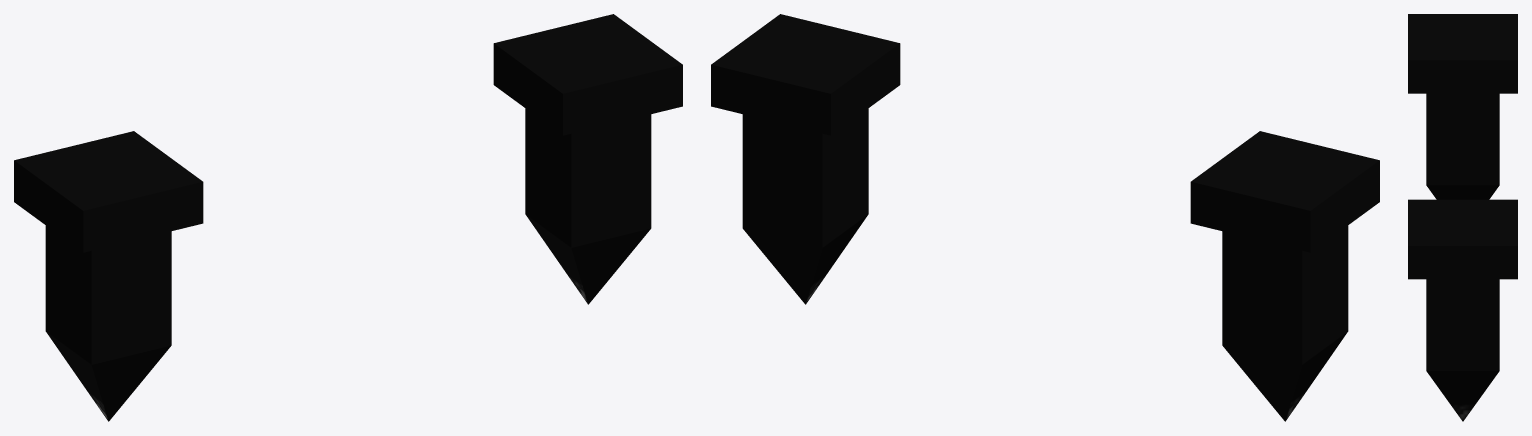
File: manaweaving_altar_pedestal02.obj
The picture shows the model from 3 angles, left to right: view 1: azimuth 30°, elevation 25°; view 2: azimuth 150°, elevation 25°; view 3: azimuth 270°, elevation 25°; orthographic projection. The views are drawn at different scales.
Parts seen in each view (by area): view 1: SHAPE_PEDISTAL_MID_Cube.010; view 2: SHAPE_PEDISTAL_MID_Cube.010; view 3: SHAPE_PEDISTAL_MID_Cube.010.
Part boxes in pixels (box(x1,y1,x2,y2)): SHAPE_PEDISTAL_MID_Cube.010: box(14, 14, 682, 421); SHAPE_PEDISTAL_MID_Cube.010: box(711, 14, 1379, 421); SHAPE_PEDISTAL_MID_Cube.010: box(1408, 14, 1517, 421).
Bounding box in the file's own units: 0.9375 × 0.375 × 0.1875.
